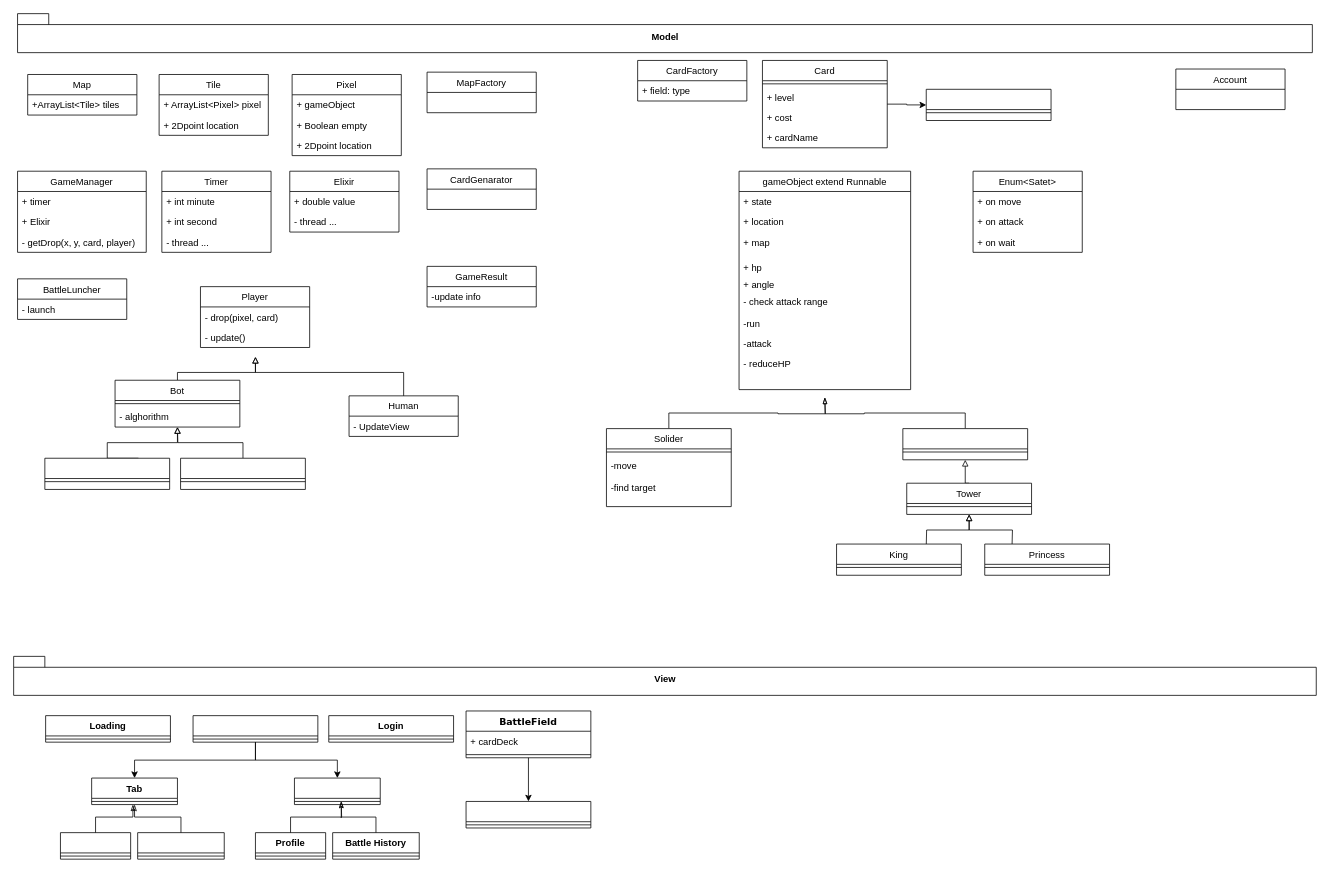
This 1330x873 diagram has some shape labels left out. The shapes that lost their labels are listed below. From the top down, each one's centre as x and y in pixels, then its label:
At [988,105]: "CardDeck".
At [965,444]: "Building".
At [107,473]: "Easy".
At [242,473]: "Hard".
At [255,728]: "Menu".
At [337,791]: "PopUp".
At [528,814]: "Pop Up Name / Winner".
At [95,845]: "Battle Deck".
At [180,845]: "Training Camp".
